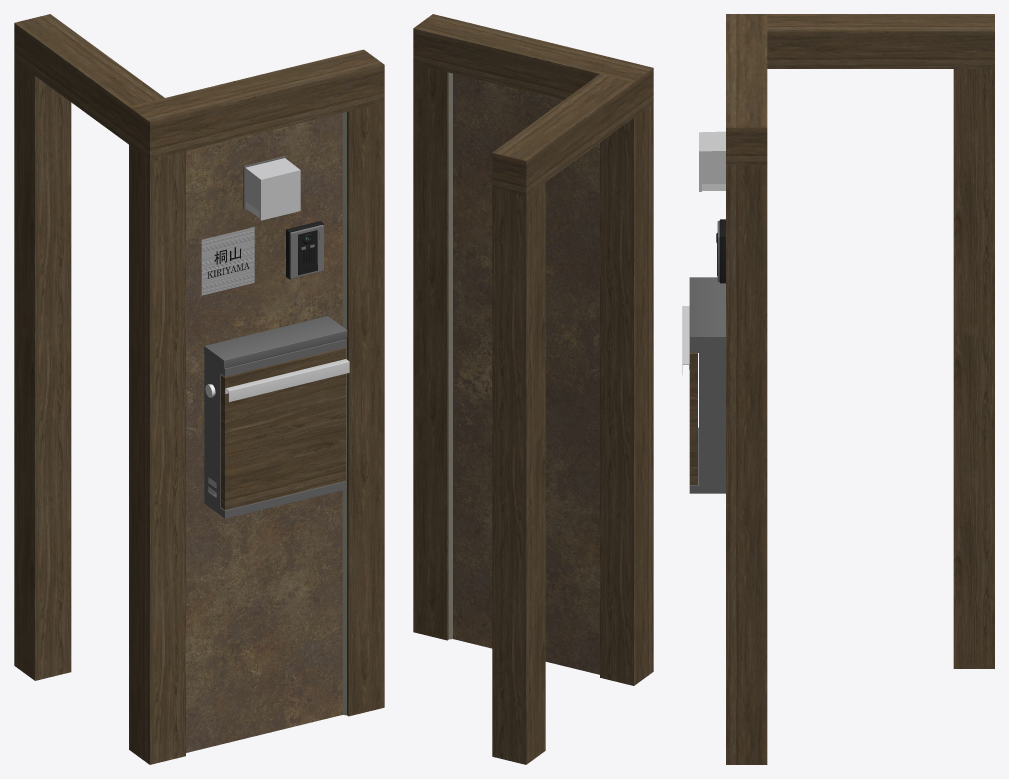
The model's file is abmonchu-styles5_rustbrown.fbx.
3 renders of one model, left to right at view 1: azimuth 30°, elevation 25°; view 2: azimuth 150°, elevation 25°; view 3: azimuth 270°, elevation 25°, orthographic. The views are drawn at different scales.
Visible parts, largest first — view 1: abmonchu-styles5_rustbrown; view 2: abmonchu-styles5_rustbrown; view 3: abmonchu-styles5_rustbrown.
Part boxes in pixels (<box>): abmonchu-styles5_rustbrown: <box>14,14,384,764</box>; abmonchu-styles5_rustbrown: <box>413,14,653,764</box>; abmonchu-styles5_rustbrown: <box>682,14,994,764</box>.
Size of the model in its own units: 65 by 170 by 75.61.
Materials: 18 (8 with a texture image).
